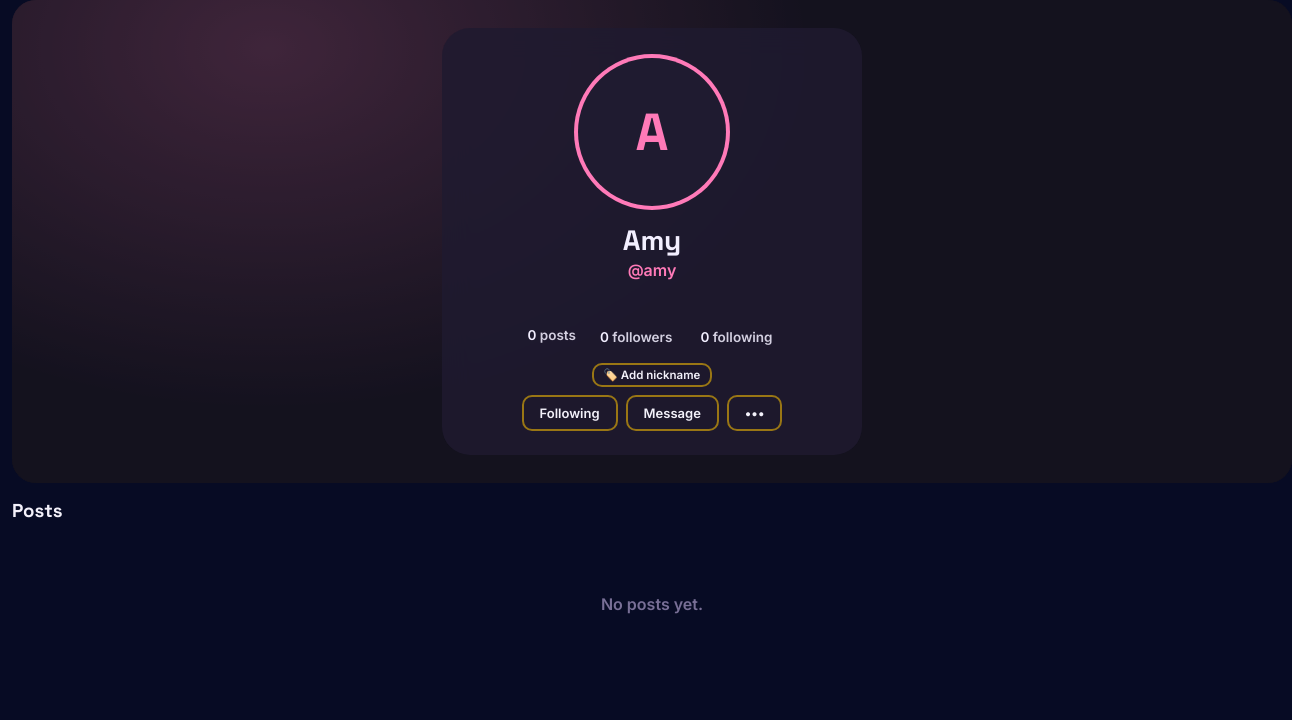
it: profile: mute / restrict / block › mute then unmute flips the menu and the status chip
Click the button named "More options": (755,413) [727, 395, 782, 431]
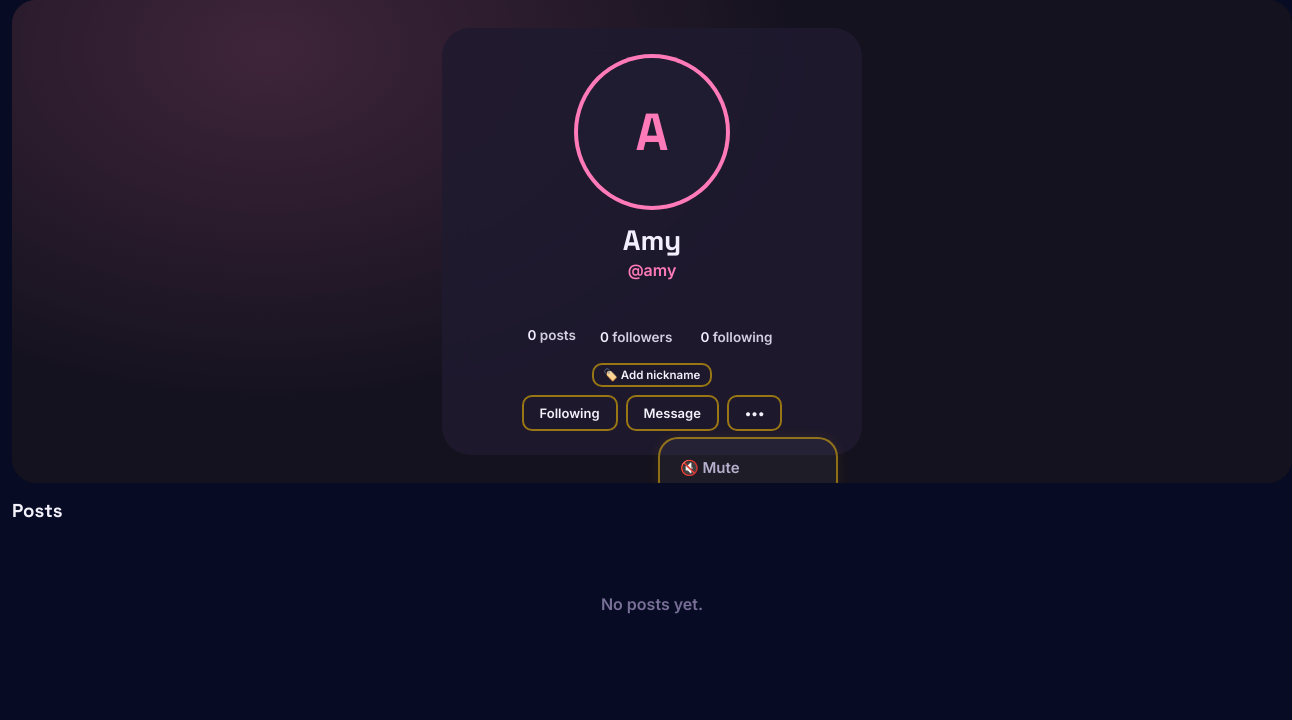
Click the menu item "🔇 Mute": (748,467) [668, 447, 828, 488]
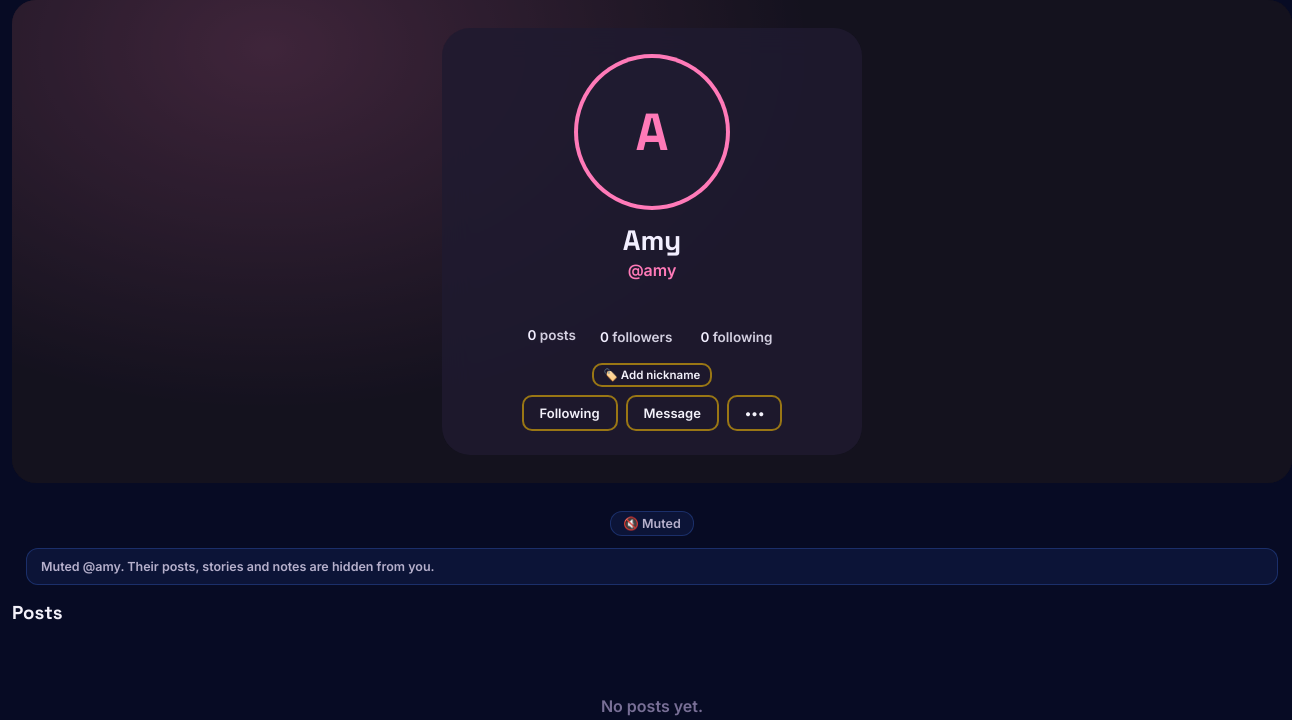
Result: the text "🔇 Muted" is shown at [610, 511, 694, 536]
Click the button named "More options": (755,413) [727, 395, 782, 431]
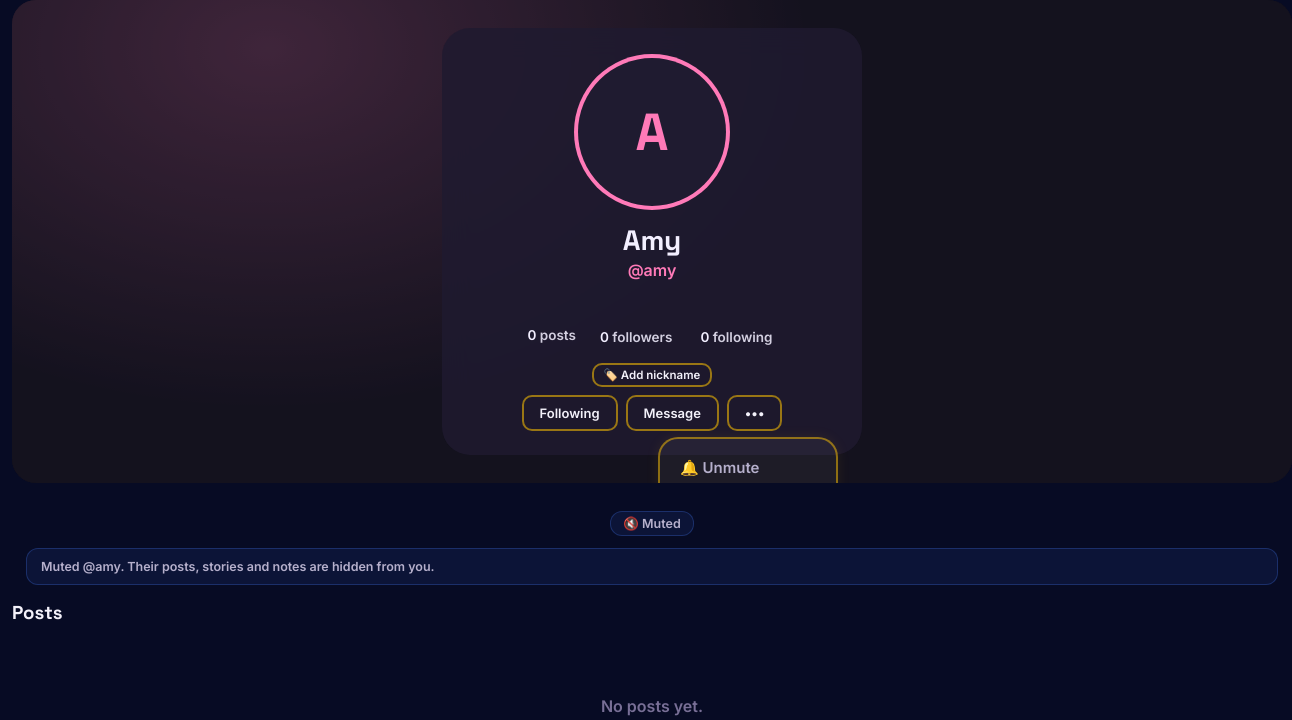
Click the menu item "🔔 Unmute": (748,467) [668, 447, 828, 488]
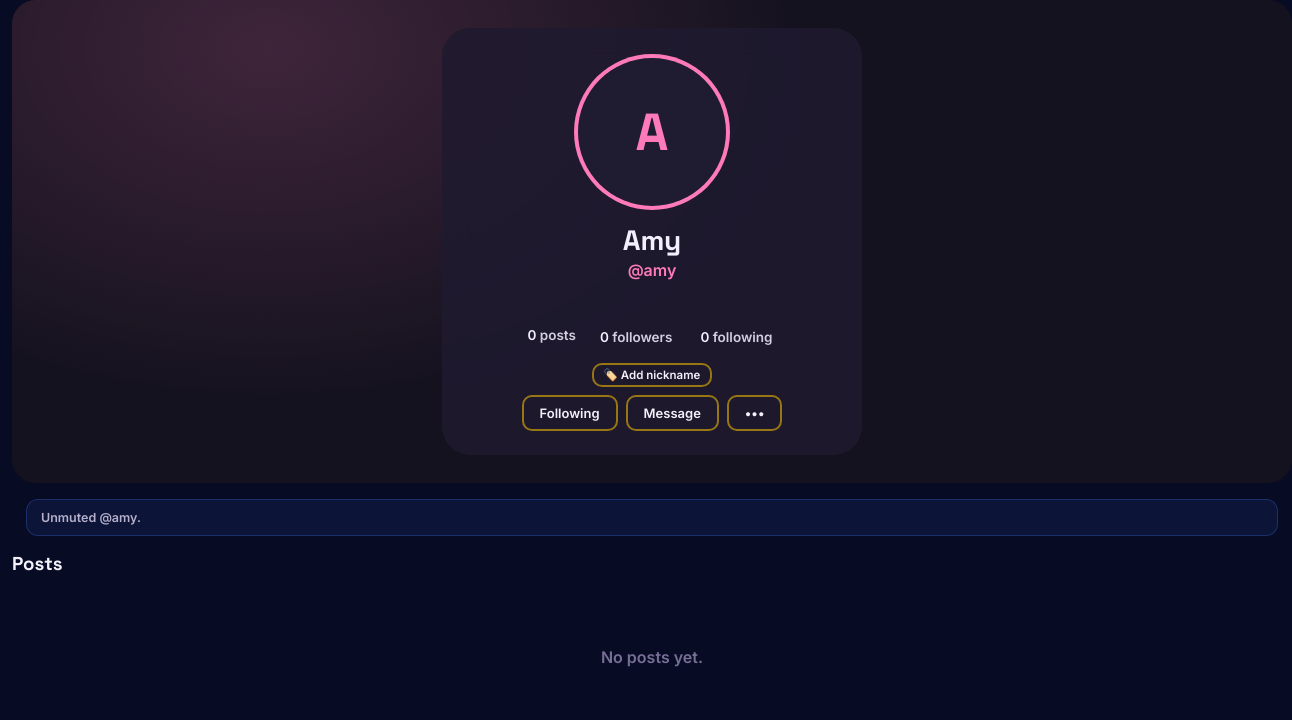
Result: the text "🔇 Muted" is gone
